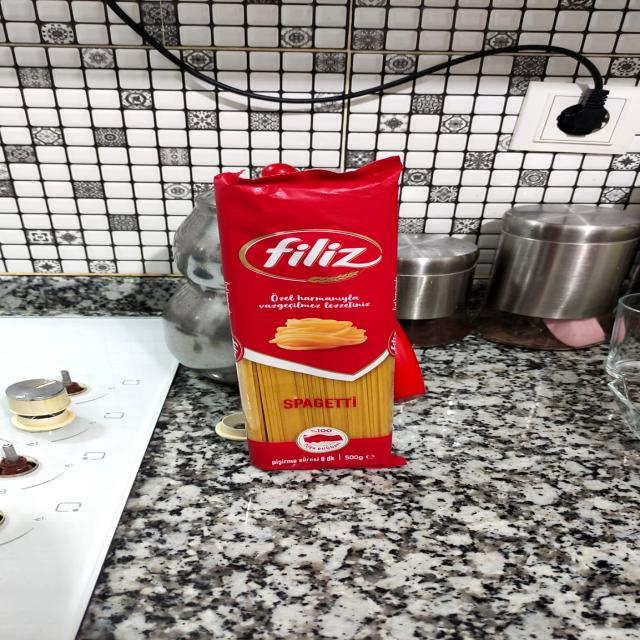spaghetti: (209, 176, 409, 468)
